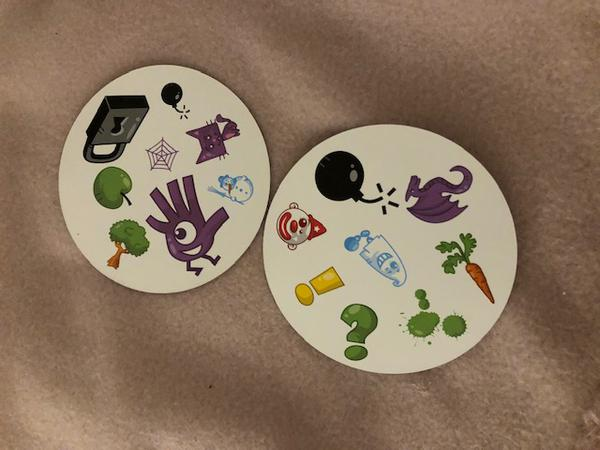arbre: (99, 214, 154, 277)
bombe: (314, 149, 400, 219), (155, 77, 193, 123)
cadenas: (82, 90, 152, 169)
carotte: (435, 229, 497, 309)
chat: (181, 110, 243, 168)
clown: (272, 198, 330, 255)
dooble: (145, 172, 227, 279)
dragon: (403, 161, 476, 229)
fantome: (341, 226, 413, 291)
point_exclamation: (288, 264, 349, 308)
point_interrogation: (339, 303, 380, 363)
pomme: (90, 165, 140, 215)
tache: (402, 285, 460, 346)
toile: (139, 134, 179, 172)
